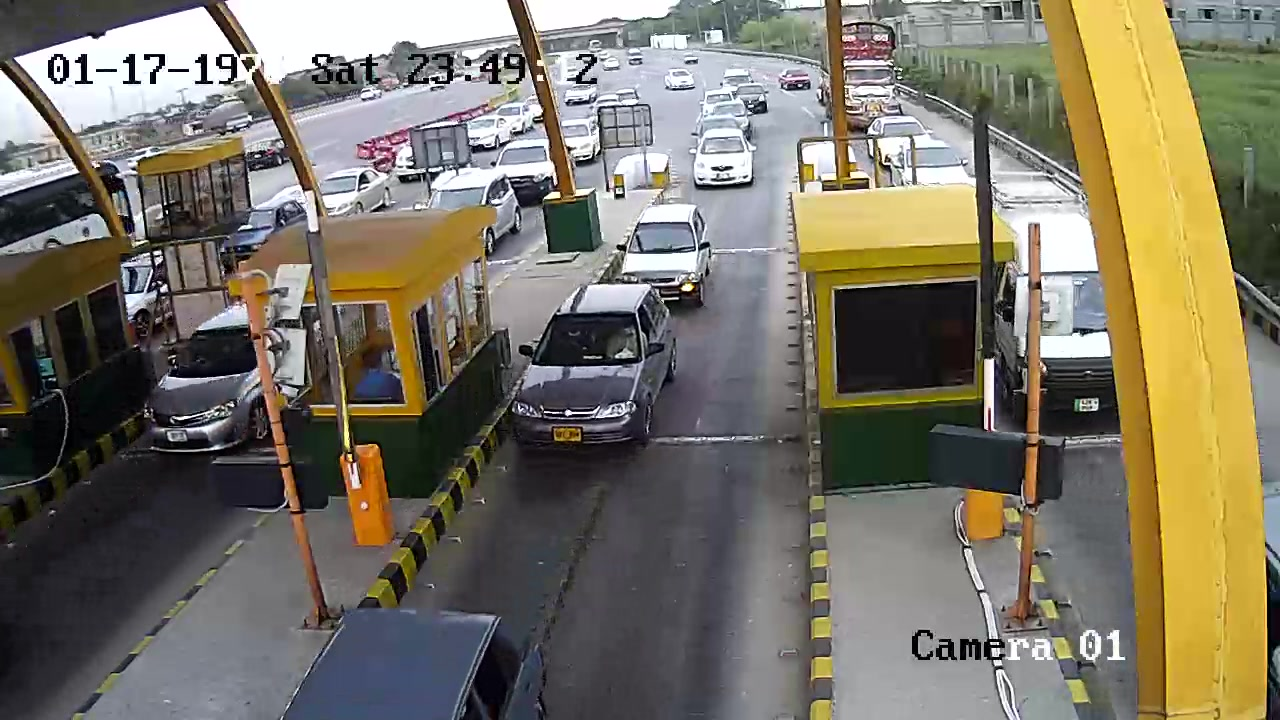F1: (493, 281, 684, 460)
